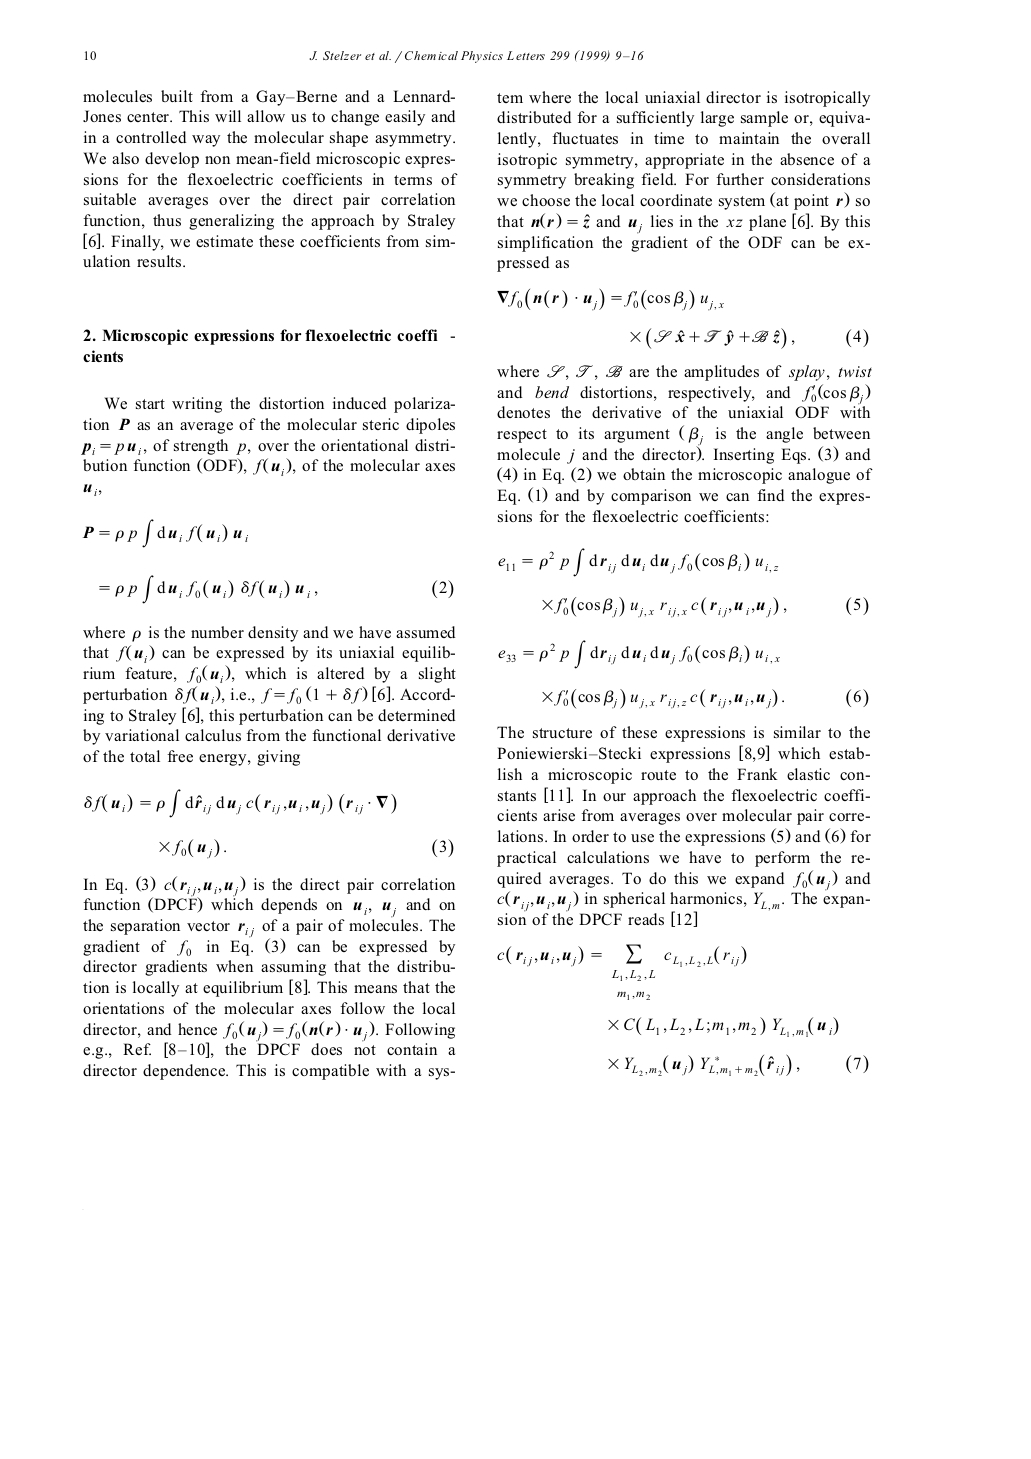formula: (497, 944, 868, 1075), (99, 574, 453, 603), (84, 788, 396, 818), (498, 639, 779, 669), (498, 547, 778, 577), (542, 595, 868, 618), (542, 688, 868, 709), (158, 838, 453, 859), (497, 287, 723, 311), (630, 327, 868, 349), (81, 518, 247, 548)
